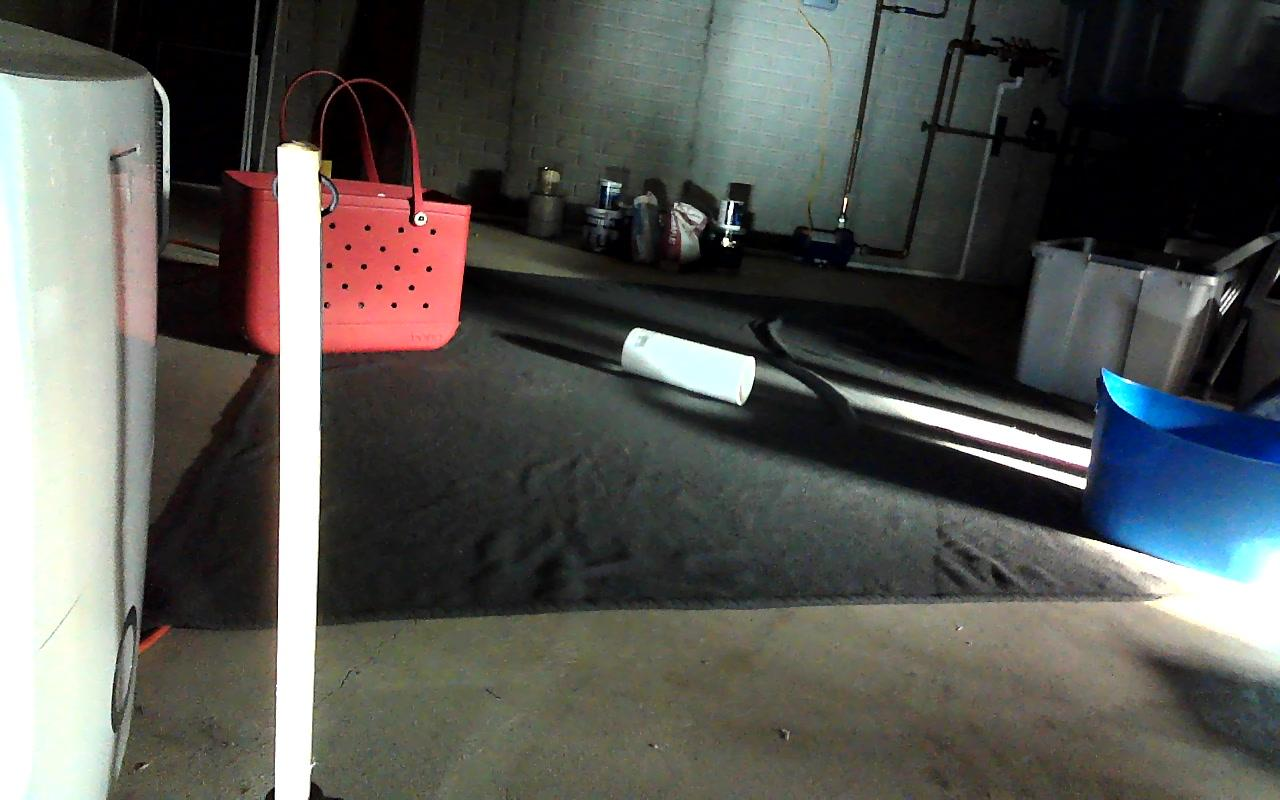coral: (620, 327, 755, 407)
